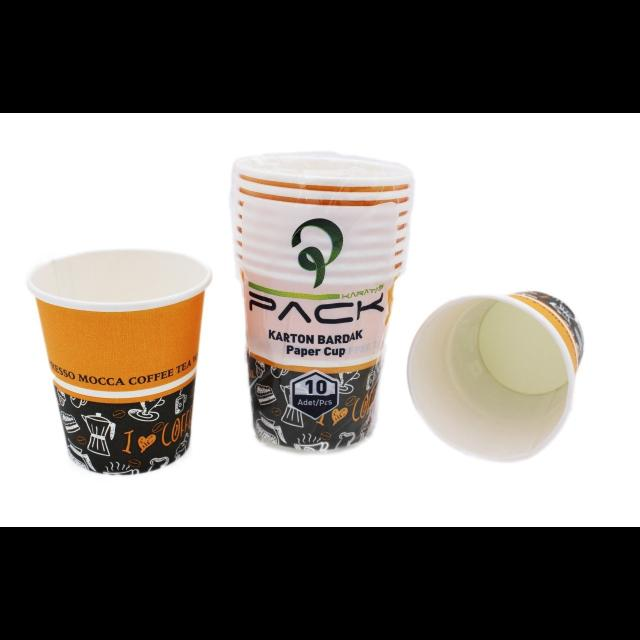trash: (224, 151, 408, 473), (24, 246, 208, 478), (414, 290, 590, 488)
